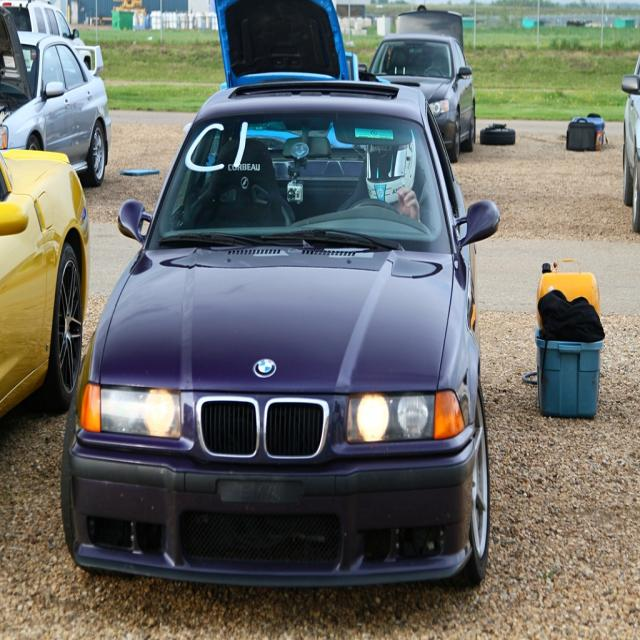Car: (62, 82, 500, 587), (208, 0, 357, 177), (0, 152, 90, 420), (0, 5, 112, 183), (368, 34, 476, 160), (0, 2, 90, 68), (622, 54, 639, 232)
